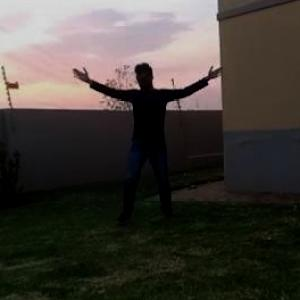takeoff: (48, 37, 207, 224)
